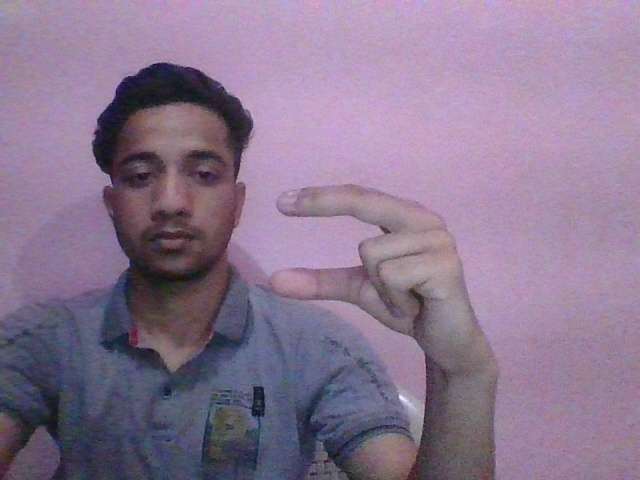no: (266, 181, 502, 352)
